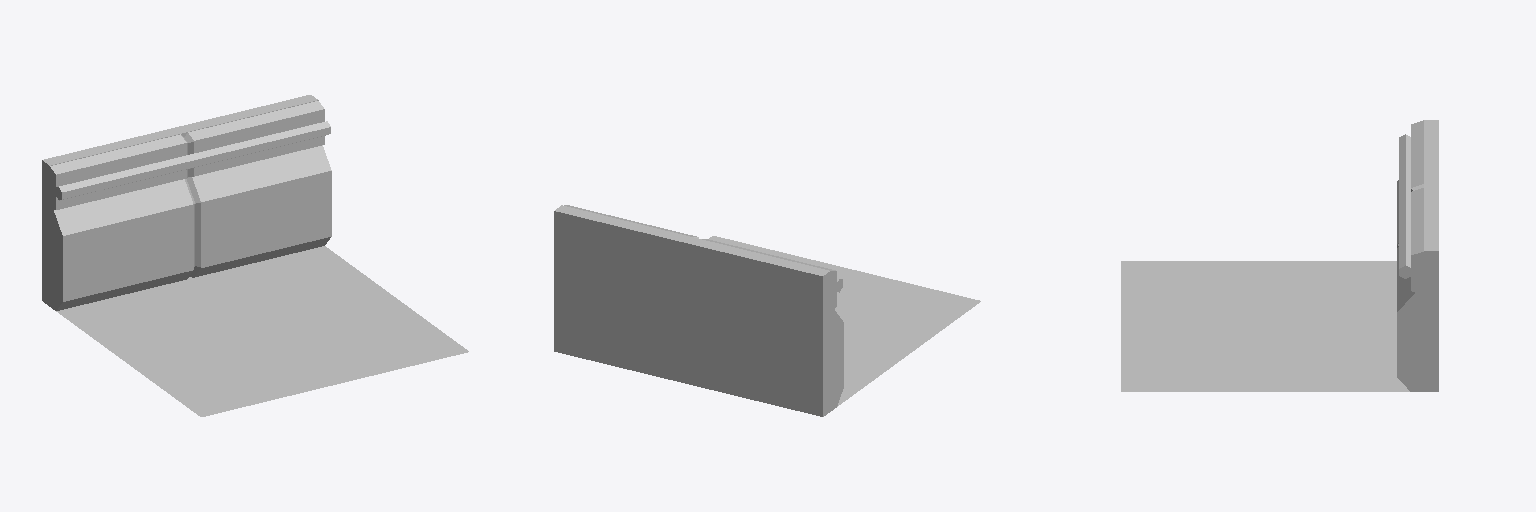
File: wall.obj
3 renders of one model, left to right at view 1: azimuth 30°, elevation 25°; view 2: azimuth 150°, elevation 25°; view 3: azimuth 270°, elevation 25°, orthographic.
Visible parts, largest first — view 1: pPlane1, pCylinder14, pCylinder9, pCylinder15, pCube1; view 2: pCube1, pPlane1, pCylinder14, pCylinder9; view 3: pPlane1, pCube1, pCylinder14, pCylinder9, pCylinder15.
Boxes of the visible parts, <box> form: pPlane1: <box>56,246,468,416</box>; pCylinder14: <box>44,145,331,310</box>; pCylinder9: <box>44,101,324,209</box>; pCylinder15: <box>55,121,330,200</box>; pCube1: <box>42,95,318,305</box>; pCube1: <box>554,205,830,416</box>; pPlane1: <box>709,236,980,406</box>; pCylinder14: <box>825,305,843,415</box>; pCylinder9: <box>564,205,836,309</box>; pPlane1: <box>1121,261,1409,391</box>; pCube1: <box>1424,120,1438,391</box>; pCylinder14: <box>1397,180,1433,391</box>; pCylinder9: <box>1411,120,1434,298</box>; pCylinder15: <box>1399,134,1411,278</box>.
Size of the model in its own units: 10 by 5.01 by 10.25.